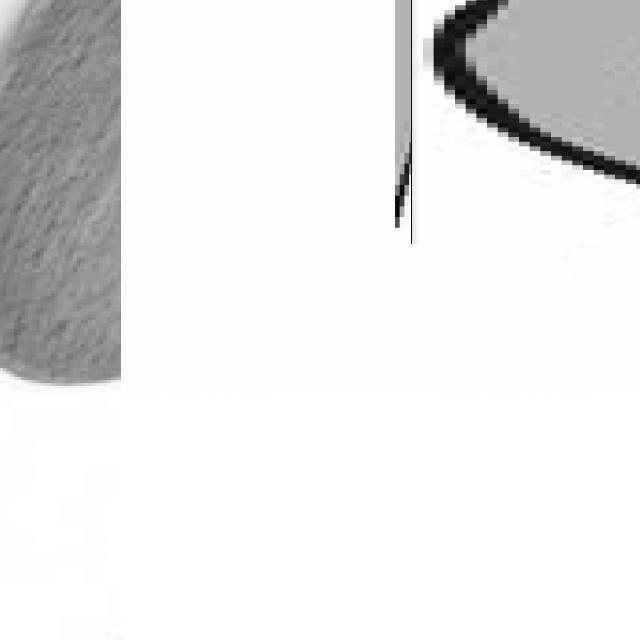forks: (403, 0, 640, 236)
spoons: (0, 0, 121, 396)
